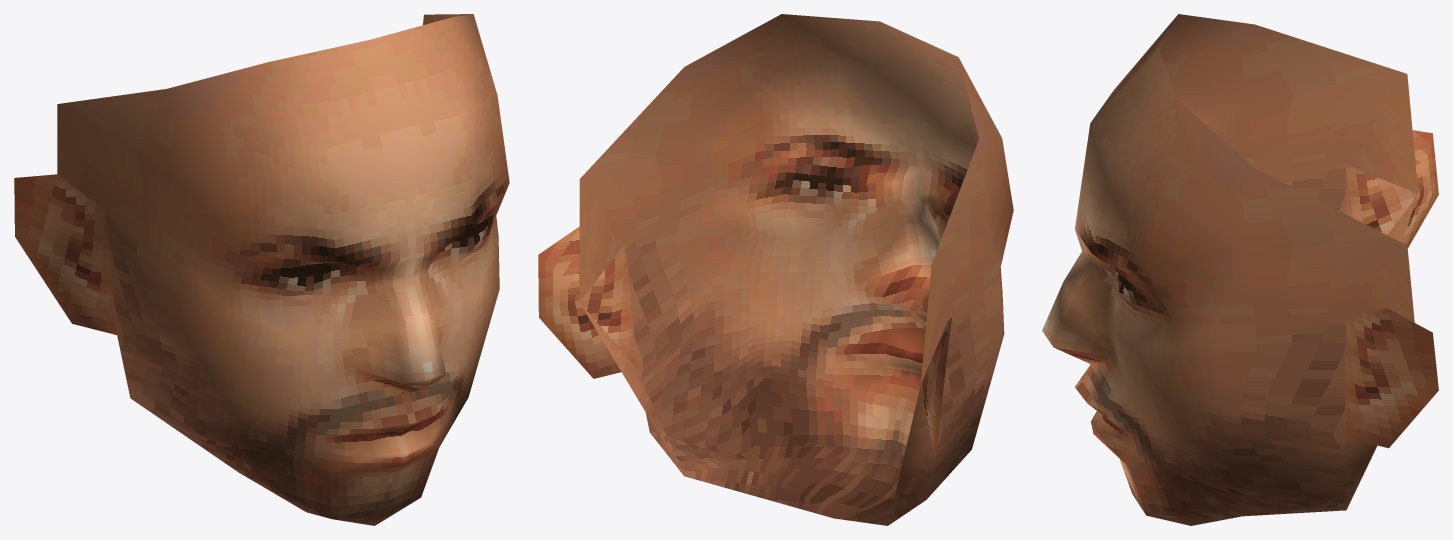
Rendered from m_hair016.glb.
The picture shows the model from 3 angles, left to right: view 1: azimuth 30°, elevation 25°; view 2: azimuth 150°, elevation 25°; view 3: azimuth 270°, elevation 25°; orthographic projection. The views are drawn at different scales.
Bounding box in the file's own units: 17.18 × 18.85 × 14.45.
1 material, 1 textured.
